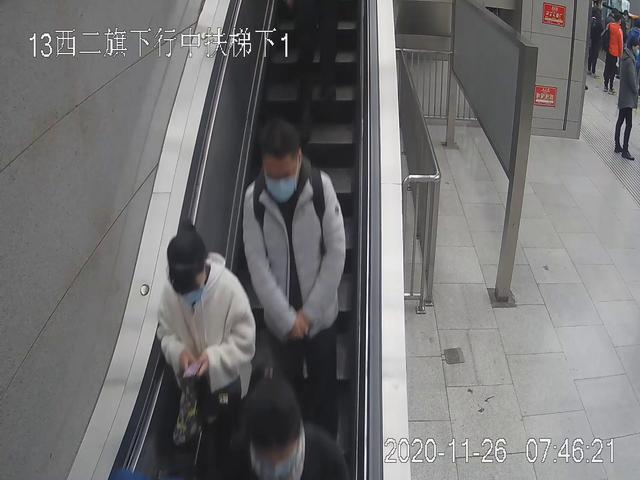person: (243, 124, 347, 471), (155, 222, 255, 480), (613, 39, 640, 161), (599, 14, 625, 94)
